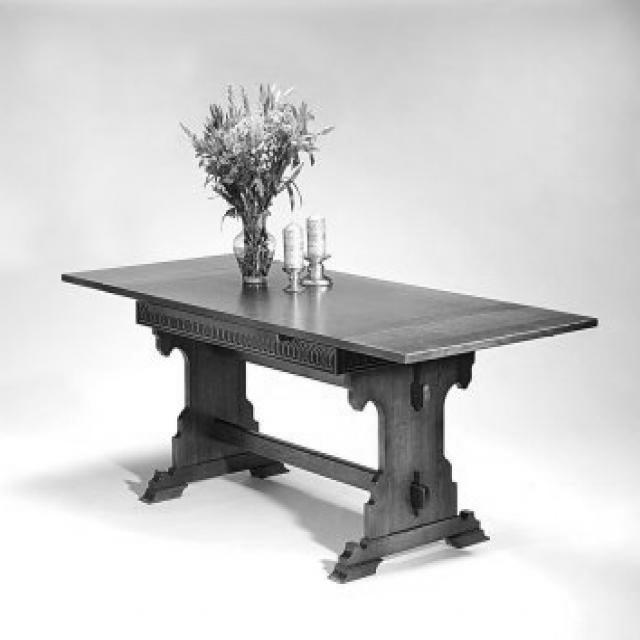table: (61, 244, 602, 586)
